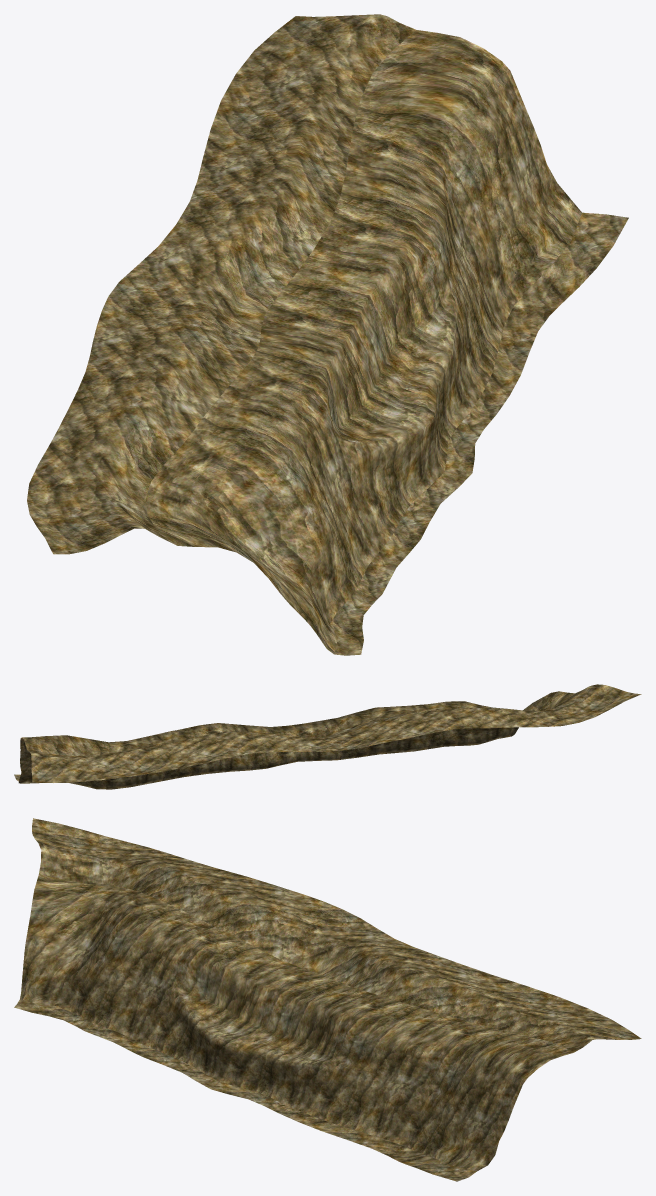
Rendered from RM_PLAYSURFACE_FINAL_OBJECT09.fbx.
The picture shows the model from 3 angles, top to bottom: view 1: azimuth 30°, elevation 25°; view 2: azimuth 150°, elevation 25°; view 3: azimuth 270°, elevation 25°; orthographic projection. The views are drawn at different scales.
Visible parts, largest first — view 1: RM_PLAYSURFACE_FINAL_OBJECT09; view 2: RM_PLAYSURFACE_FINAL_OBJECT09; view 3: RM_PLAYSURFACE_FINAL_OBJECT09.
Boxes of the visible parts, <box> form: RM_PLAYSURFACE_FINAL_OBJECT09: <box>27,14,628,655</box>; RM_PLAYSURFACE_FINAL_OBJECT09: <box>14,684,641,789</box>; RM_PLAYSURFACE_FINAL_OBJECT09: <box>14,818,641,1181</box>.
Bounding box in the file's own units: 437086 × 83546 × 416205.
2 materials, 2 textured.
